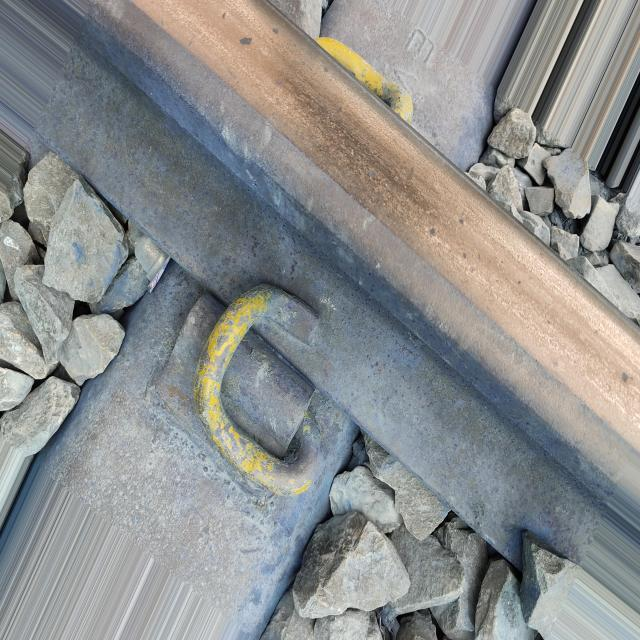Good Fasteners: (125, 247, 351, 518), (316, 38, 413, 123)
